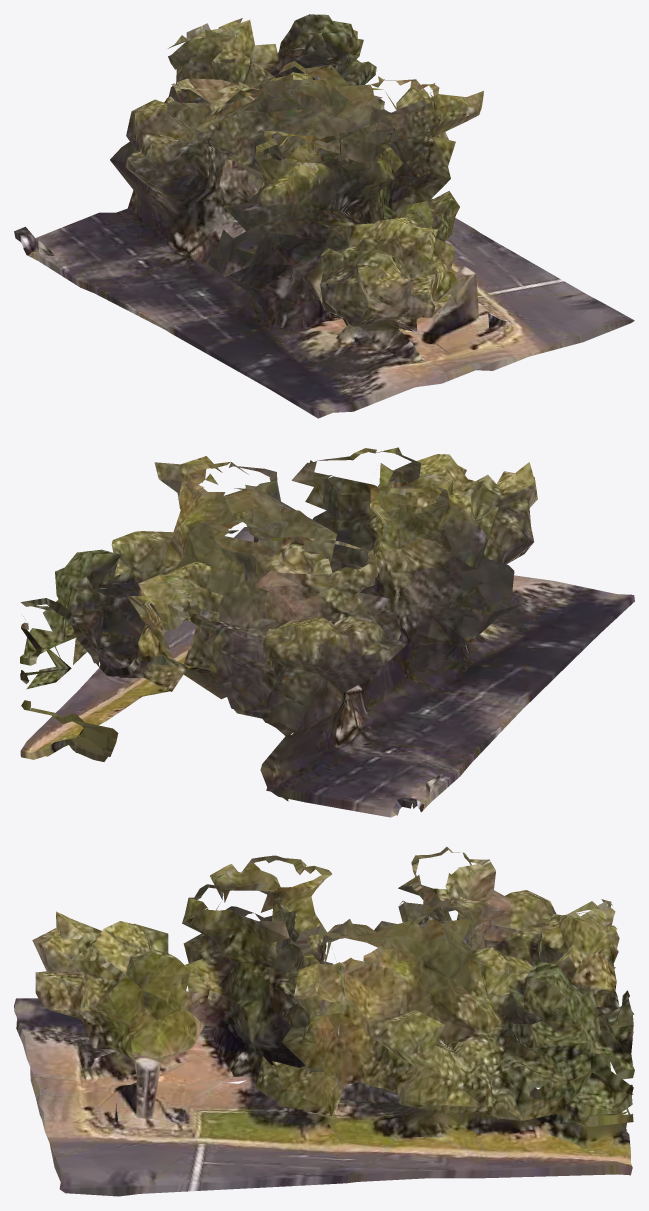
3 views of the same model, one above another, from view 1: azimuth 30°, elevation 25°; view 2: azimuth 150°, elevation 25°; view 3: azimuth 270°, elevation 25° (orthographic). The views are drawn at different scales.
Parts seen in each view (by area): view 1: Mesh_0; view 2: Mesh_0; view 3: Mesh_0.
Boxes of the visible parts, bbox=[...] form: Mesh_0: bbox=[14, 14, 634, 418]; Mesh_0: bbox=[20, 447, 634, 817]; Mesh_0: bbox=[14, 847, 634, 1196].
Bounding box in the file's own units: 33.32 × 14.51 × 41.29.
1 material, 1 textured.
